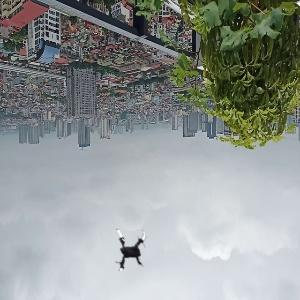drone: (104, 226, 157, 279)
